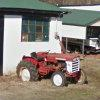Tractor: (19, 43, 83, 94)
